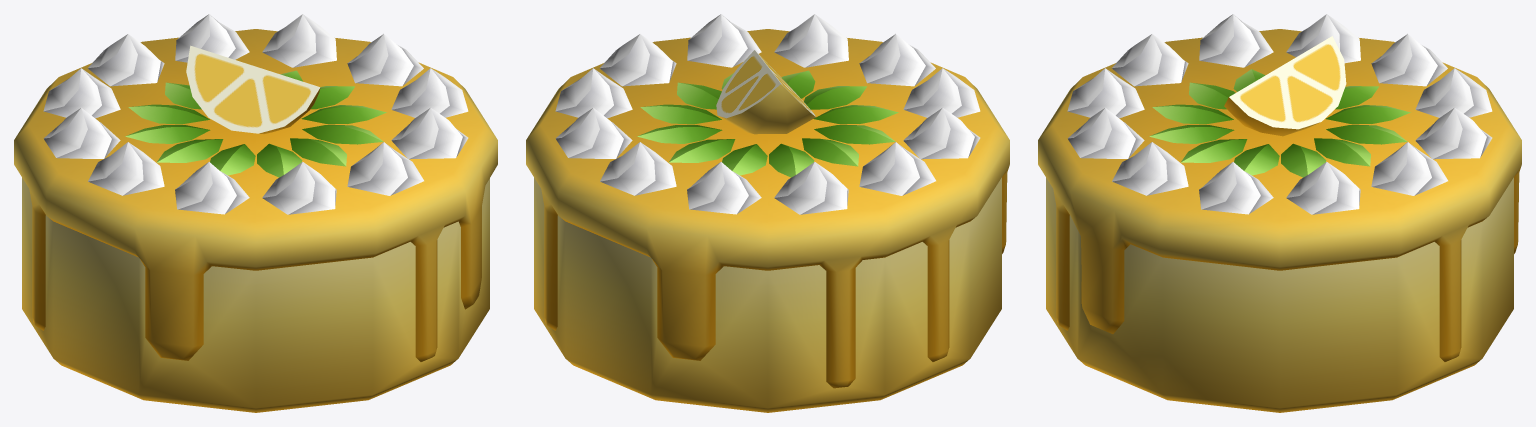
The model's file is m_LemonCake01.fbx.
3 renders of one model, left to right at view 1: azimuth 30°, elevation 25°; view 2: azimuth 150°, elevation 25°; view 3: azimuth 270°, elevation 25°, orthographic.
Parts seen in each view (by area): view 1: m_LemonCake01; view 2: m_LemonCake01; view 3: m_LemonCake01.
Boxes of the visible parts, x1,y1,x2,y2 form: m_LemonCake01: (14,14,497,412); m_LemonCake01: (526,14,1009,412); m_LemonCake01: (1038,14,1521,412).
Size of the model in its own units: 26.07 by 15.62 by 26.07.
